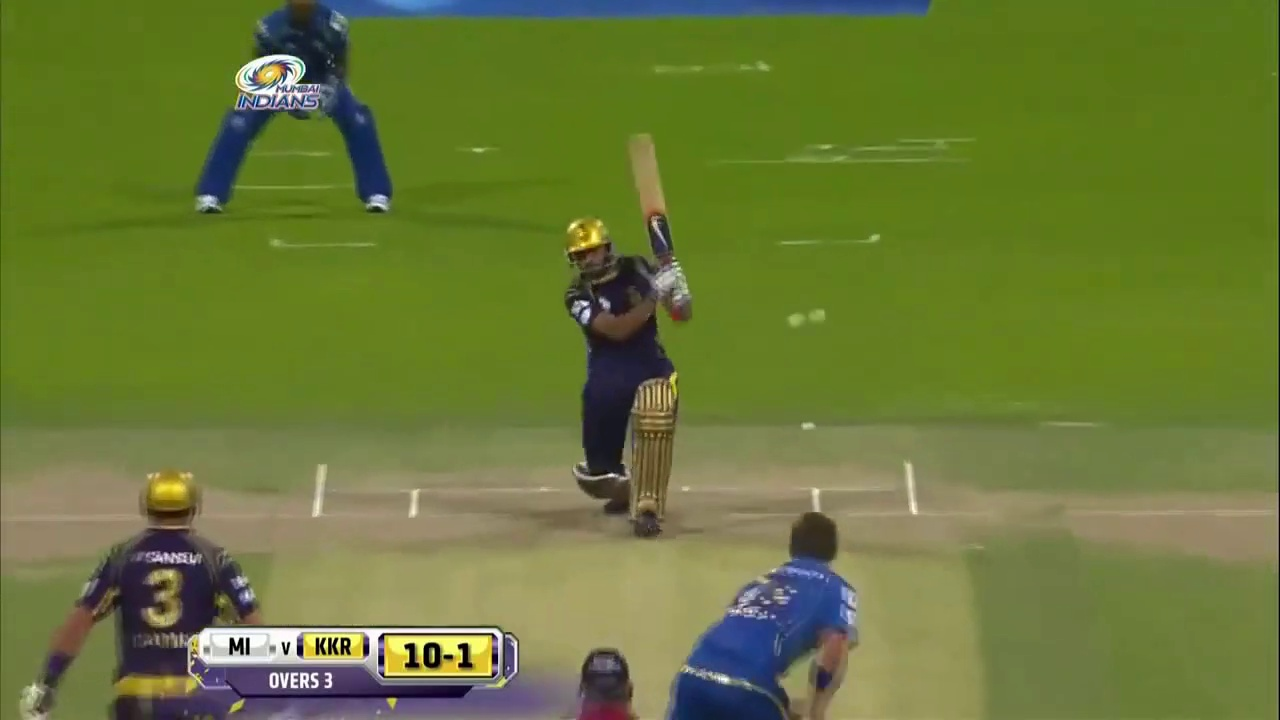bat: (625, 131, 676, 259)
